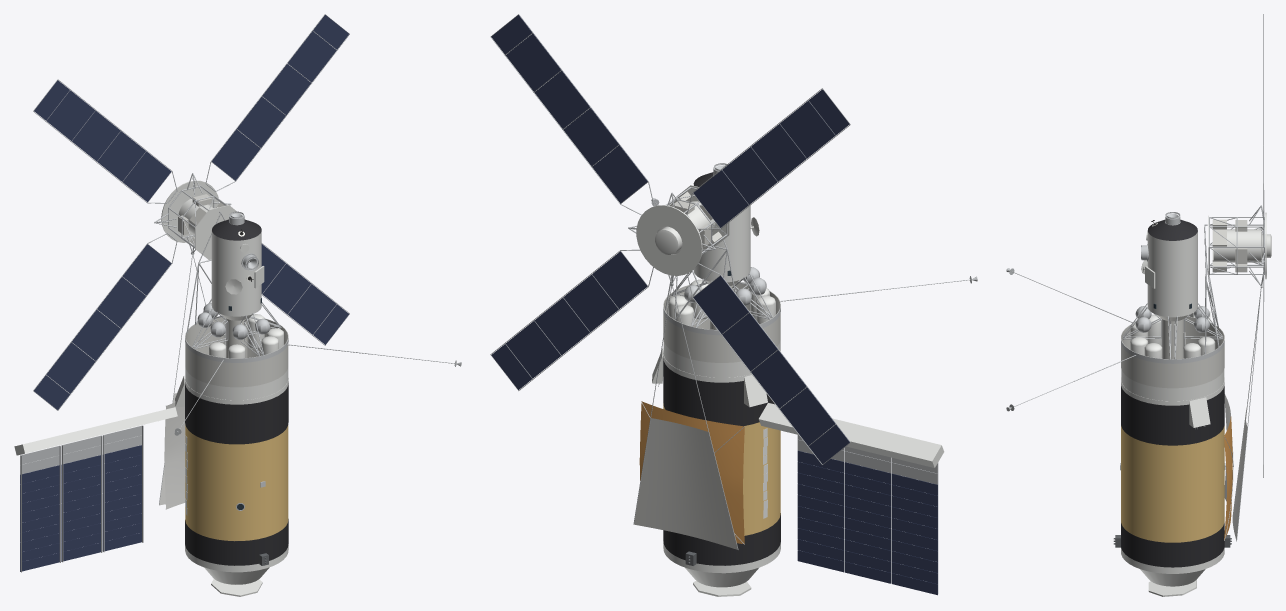
The model's file is workshop.lod2.glb.
The picture shows the model from 3 angles, left to right: view 1: azimuth 30°, elevation 25°; view 2: azimuth 150°, elevation 25°; view 3: azimuth 270°, elevation 25°; orthographic projection. The views are drawn at different scales.
Visible parts, largest first — view 1: SAS_Wing1_Cells, OWS_HabitationWall, OWS_AftSkirtInner, ATM_Wing_3_Cells, ATM_Wing_1_Cells, ATM_Wing_4_Cells, ATM_Wing_2_Cells, SAS_Wing1_Structure, FAS_InnerWallAndForwardDome, MDA_EarthObservationKit, ATM_Canister, Parasol_Underside (+12 smaller); view 2: SAS_Wing1_Cells, Sail_Cloth, ATM_Wing_3_Cells, ATM_Wing_1_Cells, ATM_Wing_2_Cells, ATM_Wing_4_Cells, OWS_AftSkirtInner, ATM_Canister, Parasol_Canopy, OWS_HabitationWall, SAS_Wing1_BeamFairing, FAS_InnerWallAndForwardDome (+14 smaller); view 3: OWS_HabitationWall, OWS_AftSkirtInner, FAS_InnerWallAndForwardDome, MDA_EarthObservationKit, ATM_Canister, AM_Bellows, FAS_OxygenTanks, IU_Skin, OWS_SkirtBands, ATM_Outriggers, OWS_RefrigerationRadiator, ATM_RackEquipment (+9 smaller).
Part boxes in pixels (x1=…): SAS_Wing1_Cells: x1=20, y1=445, x2=141, y2=571; OWS_HabitationWall: x1=185, y1=425, x2=288, y2=541; OWS_AftSkirtInner: x1=185, y1=383, x2=288, y2=565; ATM_Wing_3_Cells: x1=34, y1=244, x2=171, y2=409; ATM_Wing_1_Cells: x1=211, y1=15, x2=348, y2=180; ATM_Wing_4_Cells: x1=34, y1=80, x2=171, y2=202; ATM_Wing_2_Cells: x1=261, y1=244, x2=348, y2=344; SAS_Wing1_Structure: x1=20, y1=425, x2=143, y2=572; FAS_InnerWallAndForwardDome: x1=185, y1=316, x2=288, y2=387; MDA_EarthObservationKit: x1=211, y1=230, x2=264, y2=299; ATM_Canister: x1=161, y1=180, x2=238, y2=259; Parasol_Underside: x1=164, y1=402, x2=185, y2=509; SAS_Wing1_Cells: x1=797, y1=450, x2=937, y2=595; Sail_Cloth: x1=634, y1=418, x2=737, y2=549; ATM_Wing_3_Cells: x1=693, y1=275, x2=849, y2=464; ATM_Wing_1_Cells: x1=491, y1=15, x2=647, y2=203; ATM_Wing_2_Cells: x1=491, y1=251, x2=647, y2=389; ATM_Wing_4_Cells: x1=693, y1=89, x2=849, y2=227; OWS_AftSkirtInner: x1=663, y1=358, x2=780, y2=565; ATM_Canister: x1=636, y1=185, x2=729, y2=275; Parasol_Canopy: x1=639, y1=401, x2=744, y2=543; OWS_HabitationWall: x1=663, y1=403, x2=780, y2=535; SAS_Wing1_BeamFairing: x1=758, y1=403, x2=944, y2=467; FAS_InnerWallAndForwardDome: x1=663, y1=282, x2=780, y2=362; OWS_HabitationWall: x1=1121, y1=426, x2=1224, y2=542; OWS_AftSkirtInner: x1=1121, y1=386, x2=1224, y2=567; FAS_InnerWallAndForwardDome: x1=1121, y1=316, x2=1224, y2=388; MDA_EarthObservationKit: x1=1141, y1=231, x2=1197, y2=300; ATM_Canister: x1=1208, y1=212, x2=1271, y2=279; AM_Bellows: x1=1122, y1=303, x2=1222, y2=359; FAS_OxygenTanks: x1=1130, y1=314, x2=1215, y2=358; IU_Skin: x1=1121, y1=369, x2=1224, y2=401; OWS_SkirtBands: x1=1121, y1=382, x2=1224, y2=573; ATM_Outriggers: x1=1209, y1=205, x2=1264, y2=285; OWS_RefrigerationRadiator: x1=1140, y1=569, x2=1205, y2=596; ATM_RackEquipment: x1=1212, y1=219, x2=1247, y2=272.
Bounding box in the file's own units: 26.73 × 35.71 × 16.89.
